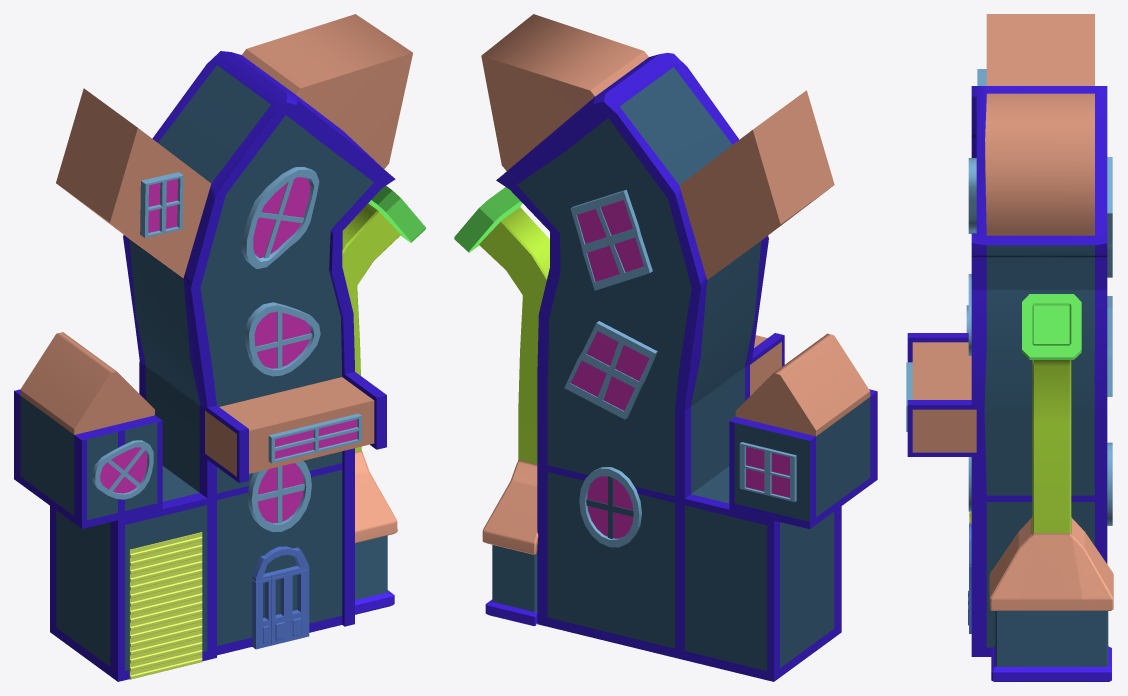
The model's file is Building1.fbx.
3 renders of one model, left to right at view 1: azimuth 30°, elevation 25°; view 2: azimuth 150°, elevation 25°; view 3: azimuth 270°, elevation 25°, orthographic.
Parts seen in each view (by area): view 1: building1; view 2: building1; view 3: building1.
Part boxes in pixels (<box>): building1: <box>14,14,425,681</box>; building1: <box>454,14,877,681</box>; building1: <box>906,14,1113,681</box>.
Bounding box in the file's own units: 61.35 × 86.73 × 29.61.
